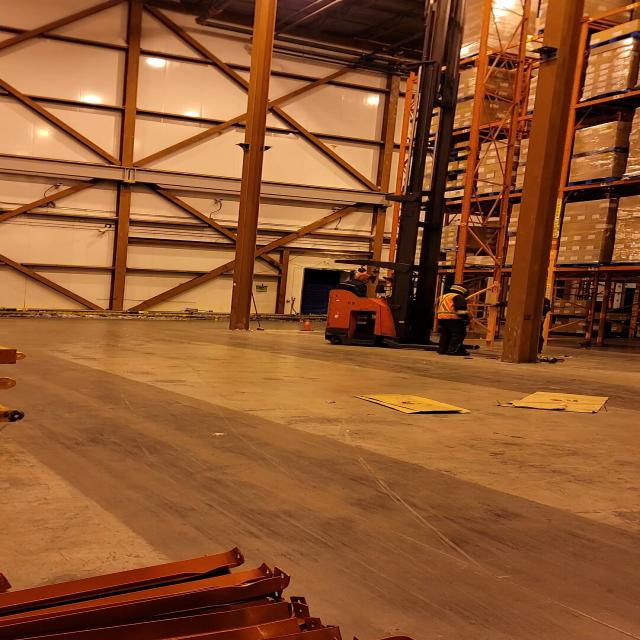forklift: (320, 192, 485, 355)
human: (430, 281, 484, 360), (534, 294, 560, 361), (334, 270, 374, 297)
objectofinterest: (465, 6, 517, 354), (347, 390, 478, 419), (494, 388, 612, 418)
